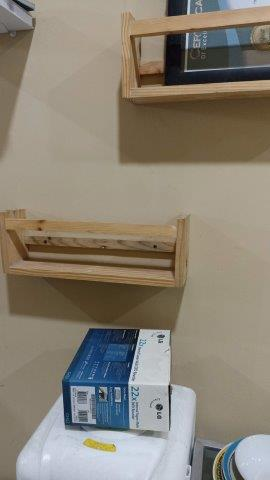kardus: (62, 330, 170, 431)
